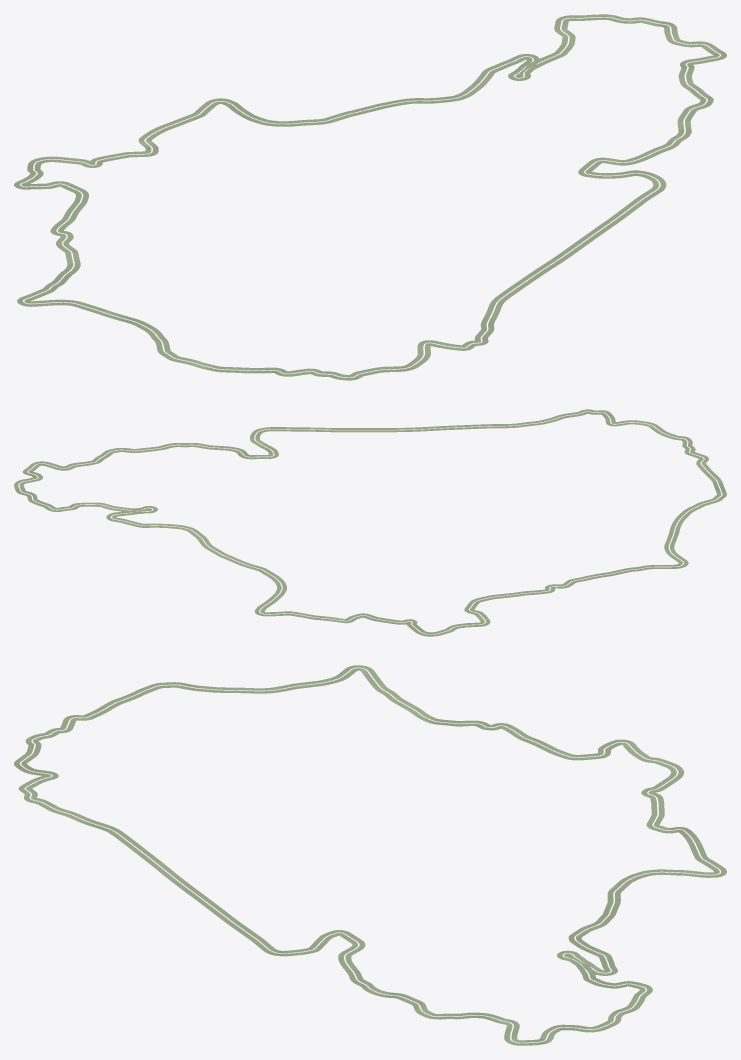
Rendered from Nordschleife_environment_v02.glb.
3 views of the same model, one above another, from view 1: azimuth 30°, elevation 25°; view 2: azimuth 150°, elevation 25°; view 3: azimuth 270°, elevation 25° (orthographic). The views are drawn at different scales.
Visible parts, largest first — view 1: Grass; view 2: Grass; view 3: Grass.
Part boxes in pixels (x1=…): Grass: x1=14, y1=14, x2=726, y2=380; Grass: x1=14, y1=409, x2=726, y2=636; Grass: x1=14, y1=665, x2=726, y2=1045.
Size of the model in its own units: 6209 by 294 by 4906.
